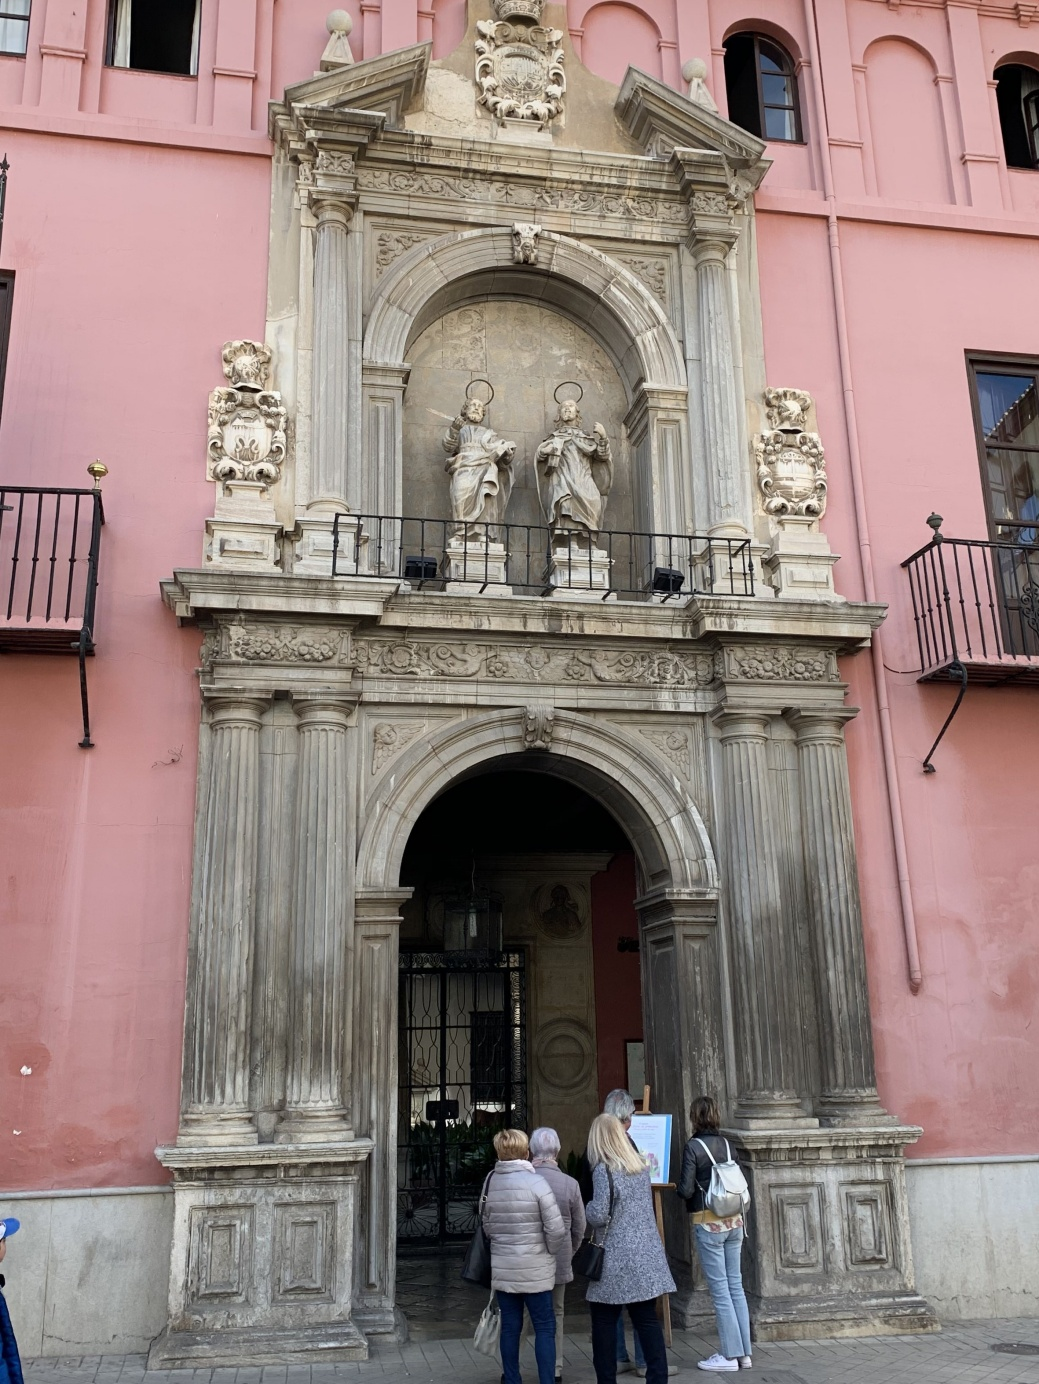arco-medio-punto: (387, 745, 688, 956), (383, 251, 664, 437)
fronton-partido: (270, 37, 761, 184)
